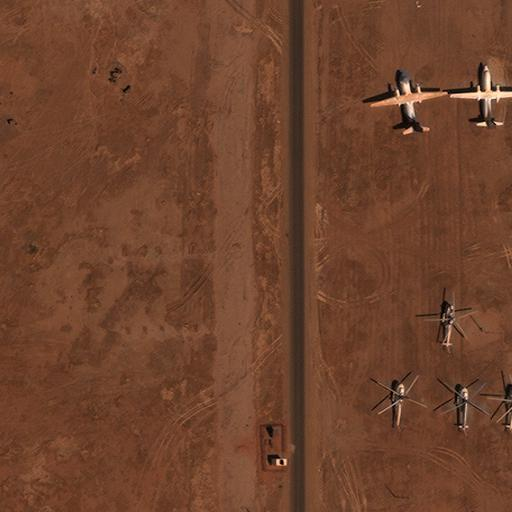Military Transport: (369, 70, 447, 132), (450, 63, 512, 128)
